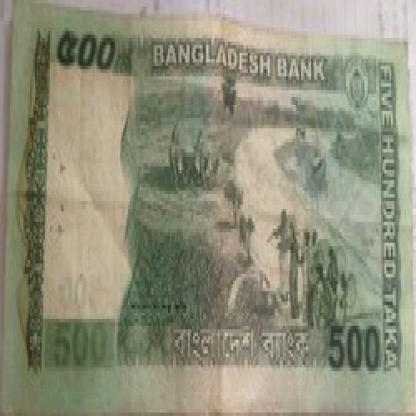500 taka: (323, 308, 383, 385), (45, 28, 120, 83)
currency: (5, 10, 413, 396)
